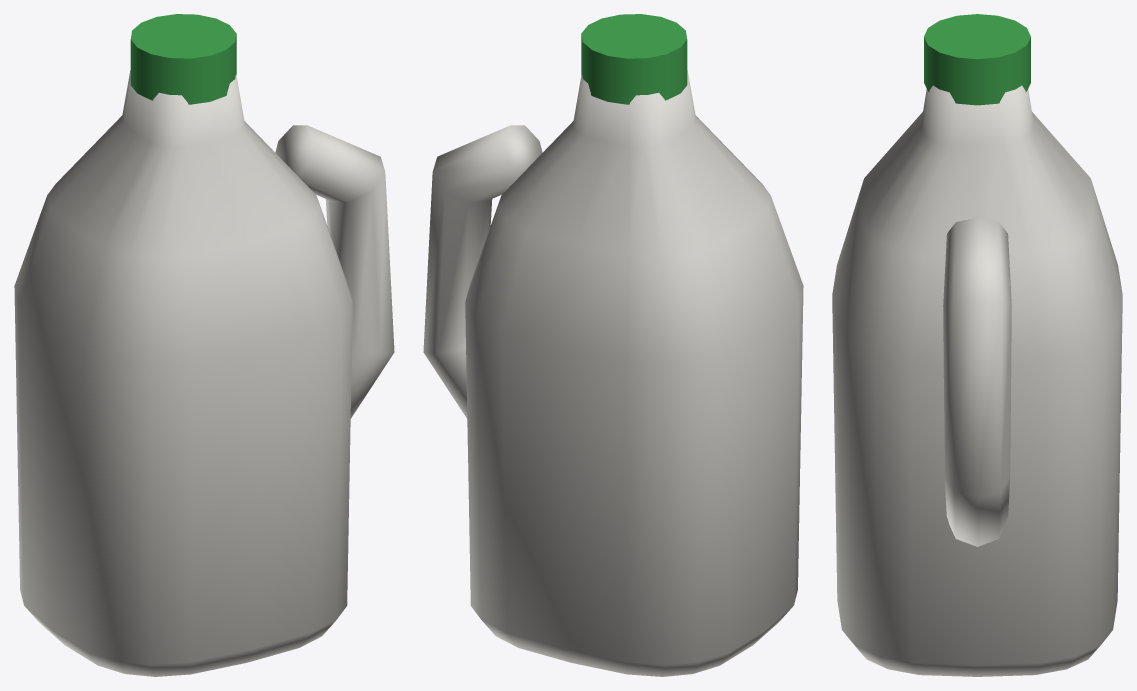
Rendered from item_jug.fbx.
3 views of the same model, side by side, from view 1: azimuth 30°, elevation 25°; view 2: azimuth 150°, elevation 25°; view 3: azimuth 270°, elevation 25° (orthographic).
Parts seen in each view (by area): view 1: item_jug; view 2: item_jug; view 3: item_jug.
Part boxes in pixels (bbox=[...]): item_jug: bbox=[14, 14, 394, 676]; item_jug: bbox=[423, 14, 803, 676]; item_jug: bbox=[832, 14, 1122, 676].
Size of the model in its own units: 0.1562 by 0.252 by 0.114.
